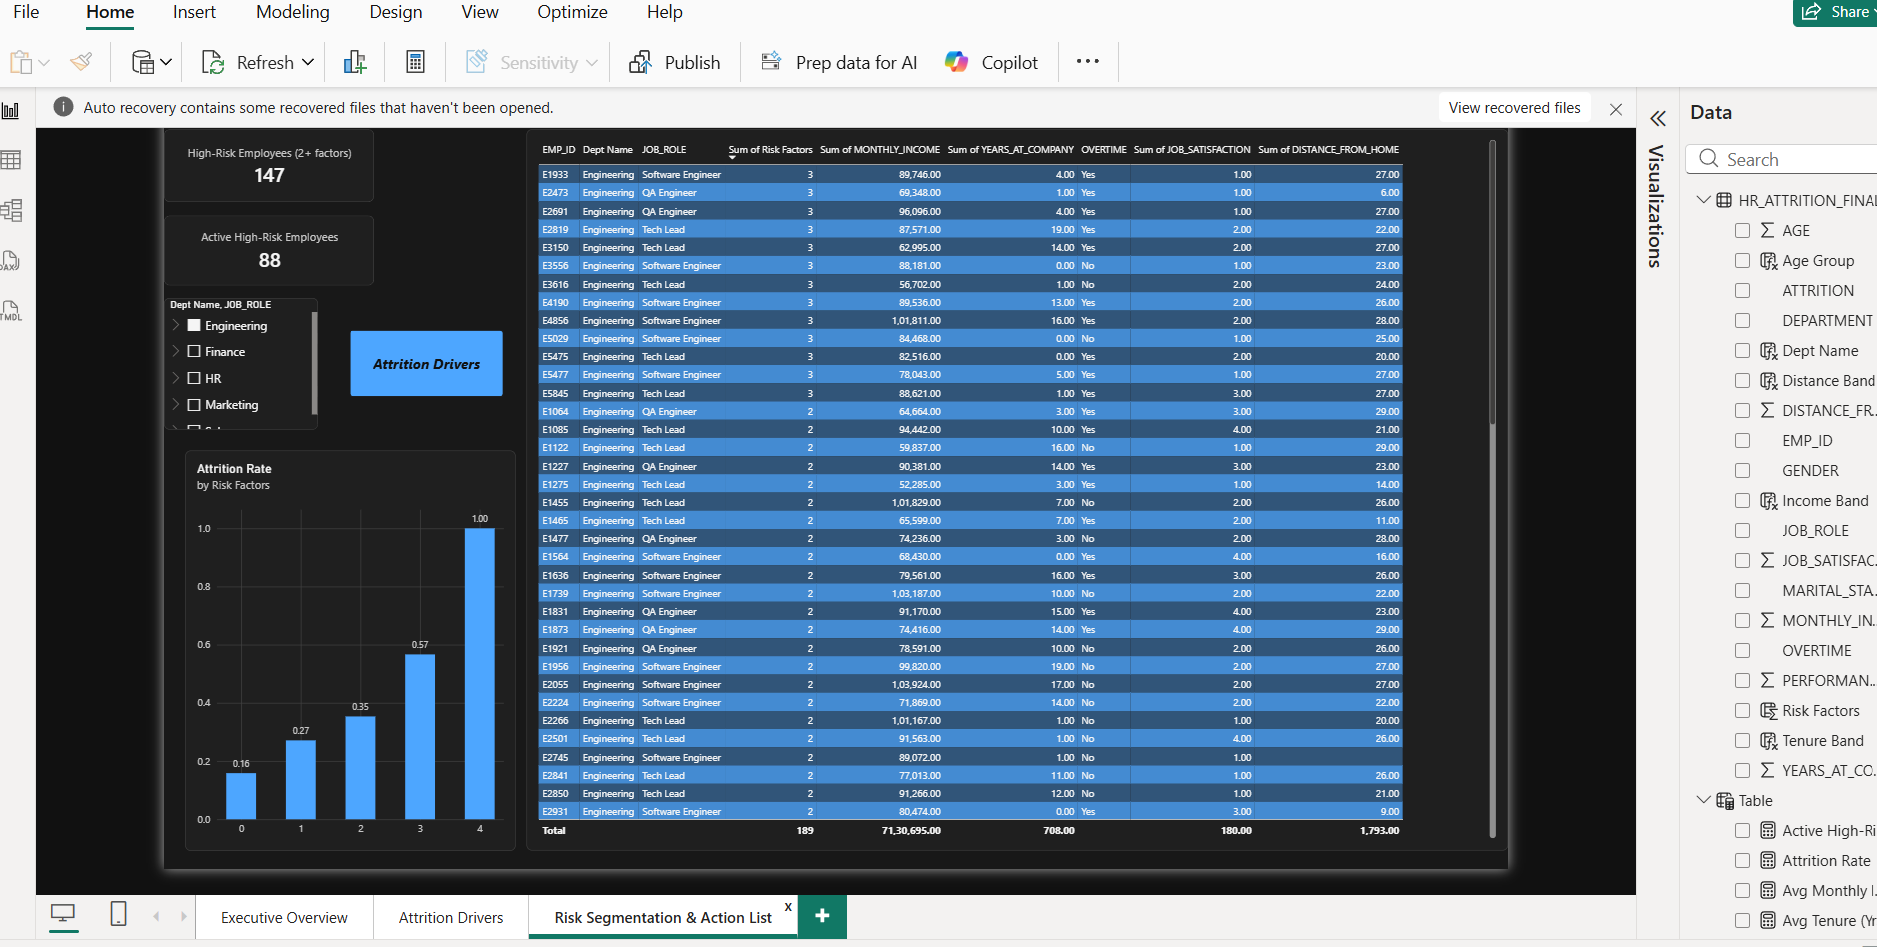

The dashboard page shown, as its layout file describes it:
{"tool":"powerbi","page":{"name":"Risk Segmentation & Action List","canvas":[1920,1080],"ordinal":2},"visuals":[{"type":"clusteredColumnChart","fields":{"Category":["HR_ATTRITION_FINAL.Risk Factors"],"Y":["Table.Attrition Rate"]},"box":[30,482,472,572],"z":0},{"type":"cardVisual","fields":{"Data":["Table.High-Risk Employees (2+ factors)"]},"box":[0,24,300,104],"z":1000},{"type":"cardVisual","fields":{"Data":["Table.Active High-Risk Employees"]},"box":[0,146,300,100],"z":2000},{"type":"tableEx","fields":{"Values":["HR_ATTRITION_FINAL.EMP_ID","HR_ATTRITION_FINAL.Dept Name","HR_ATTRITION_FINAL.JOB_ROLE","Sum(HR_ATTRITION_FINAL.Risk Factors)","Sum(HR_ATTRITION_FINAL.MONTHLY_INCOME)","Sum(HR_ATTRITION_FINAL.YEARS_AT_COMPANY)","HR_ATTRITION_FINAL.OVERTIME","Sum(HR_ATTRITION_FINAL.JOB_SATISFACTION)","Sum(HR_ATTRITION_FINAL.DISTANCE_FROM_HOME)"]},"box":[518,24,1402,1030],"z":3000},{"type":"slicer","fields":{"Values":["HR_ATTRITION_FINAL.Dept Name","HR_ATTRITION_FINAL.JOB_ROLE"]},"box":[0,264,220,188],"z":4000},{"type":"actionButton","box":[266,310,218,94],"z":9000}]}

Visuals, with their boxes on the page's 1920x1080 design canvas (x1, y1, x2, y2). These are canvas units, not pixel positions in the 1877x947 screenshot, which may show the page scaled, cropped or inside an application window:
clusteredColumnChart - HR_ATTRITION_FINAL.Risk Factors x Table.Attrition Rate: rect(30, 482, 502, 1054)
cardVisual - Table.High-Risk Employees (2+ factors): rect(0, 24, 300, 128)
cardVisual - Table.Active High-Risk Employees: rect(0, 146, 300, 246)
tableEx - HR_ATTRITION_FINAL.EMP_ID x HR_ATTRITION_FINAL.Dept Name: rect(518, 24, 1920, 1054)
slicer - HR_ATTRITION_FINAL.Dept Name x HR_ATTRITION_FINAL.JOB_ROLE: rect(0, 264, 220, 452)
actionButton: rect(266, 310, 484, 404)
